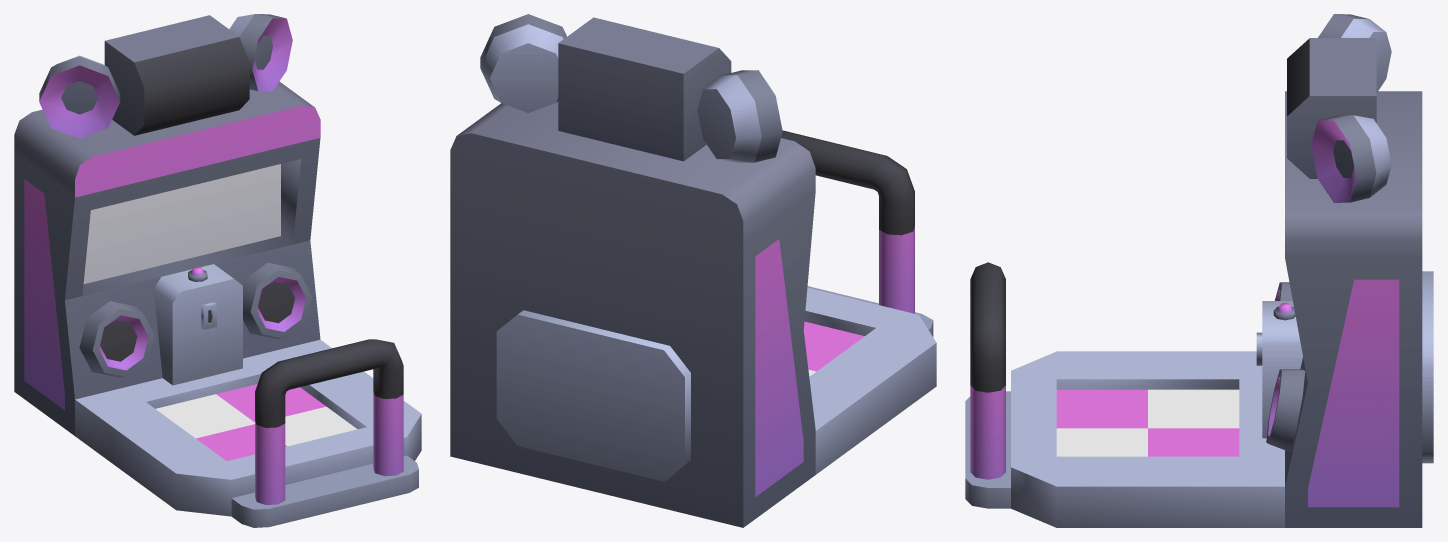
File: dansmaskin.glb
3 views of the same model, side by side, from view 1: azimuth 30°, elevation 25°; view 2: azimuth 150°, elevation 25°; view 3: azimuth 270°, elevation 25° (orthographic). The views are drawn at different scales.
Visible parts, largest first — view 1: dance-machine; view 2: dance-machine, Group; view 3: dance-machine, Group.
Boxes of the visible parts, bbox=[...] form: dance-machine: bbox=[14, 14, 421, 527]; dance-machine: bbox=[450, 14, 936, 527]; Group: bbox=[496, 310, 690, 481]; dance-machine: bbox=[965, 14, 1422, 527]; Group: bbox=[1422, 271, 1433, 463].
Bounding box in the file's own units: 0.7232 × 0.9499 × 1.02.
Materials: 1 (1 with a texture image).
